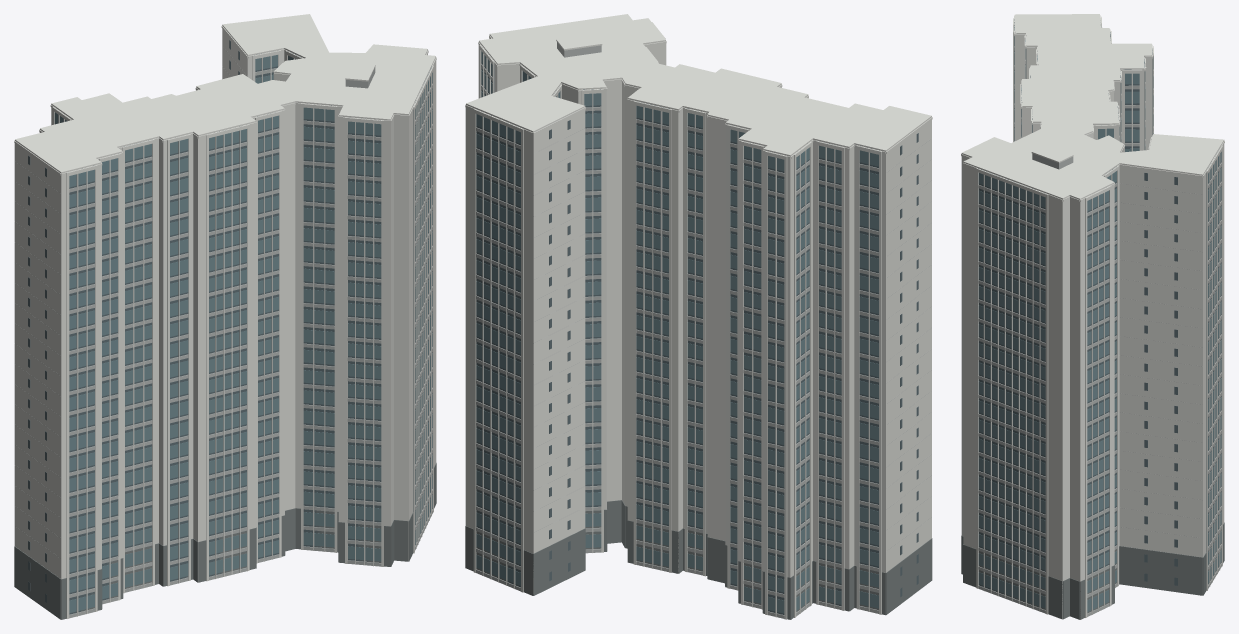
Rendered from bespoke-godeok-arteon-323.glb.
The picture shows the model from 3 angles, left to right: view 1: azimuth 30°, elevation 25°; view 2: azimuth 150°, elevation 25°; view 3: azimuth 270°, elevation 25°; orthographic projection. The views are drawn at different scales.
Parts seen in each view (by area): view 1: Arteon323_editable_Arteon323_broad_white_facade_frames001, Arteon323_editable_Arteon323_turquoise_balcony_glazing001, Arteon323_editable_Arteon323_recessed_dark_balcony_surrounds, Arteon323_editable_Arteon323_light_grey_solid_wall001, Arteon323_editable_Arteon323_muted_ground_wall001; view 2: Arteon323_editable_Arteon323_broad_white_facade_frames001, Arteon323_editable_Arteon323_turquoise_balcony_glazing001, Arteon323_editable_Arteon323_recessed_dark_balcony_surrounds, Arteon323_editable_Arteon323_light_grey_solid_wall001, Arteon323_editable_Arteon323_muted_ground_wall001; view 3: Arteon323_editable_Arteon323_broad_white_facade_frames001, Arteon323_editable_Arteon323_turquoise_balcony_glazing001, Arteon323_editable_Arteon323_recessed_dark_balcony_surrounds, Arteon323_editable_Arteon323_light_grey_solid_wall001, Arteon323_editable_Arteon323_muted_ground_wall001.
Part boxes in pixels (x1=…): Arteon323_editable_Arteon323_broad_white_facade_frames001: x1=14, y1=14, x2=436, y2=618; Arteon323_editable_Arteon323_turquoise_balcony_glazing001: x1=54, y1=55, x2=432, y2=613; Arteon323_editable_Arteon323_recessed_dark_balcony_surrounds: x1=28, y1=40, x2=432, y2=614; Arteon323_editable_Arteon323_light_grey_solid_wall001: x1=15, y1=47, x2=432, y2=618; Arteon323_editable_Arteon323_muted_ground_wall001: x1=14, y1=463, x2=436, y2=619; Arteon323_editable_Arteon323_broad_white_facade_frames001: x1=465, y1=14, x2=932, y2=619; Arteon323_editable_Arteon323_turquoise_balcony_glazing001: x1=476, y1=51, x2=878, y2=613; Arteon323_editable_Arteon323_recessed_dark_balcony_surrounds: x1=476, y1=62, x2=918, y2=614; Arteon323_editable_Arteon323_light_grey_solid_wall001: x1=476, y1=42, x2=931, y2=618; Arteon323_editable_Arteon323_muted_ground_wall001: x1=465, y1=500, x2=932, y2=619; Arteon323_editable_Arteon323_broad_white_facade_frames001: x1=961, y1=14, x2=1224, y2=619; Arteon323_editable_Arteon323_turquoise_balcony_glazing001: x1=978, y1=26, x2=1221, y2=611; Arteon323_editable_Arteon323_recessed_dark_balcony_surrounds: x1=978, y1=19, x2=1221, y2=606; Arteon323_editable_Arteon323_light_grey_solid_wall001: x1=978, y1=46, x2=1221, y2=616; Arteon323_editable_Arteon323_muted_ground_wall001: x1=961, y1=522, x2=1224, y2=619.
Bounding box in the file's own units: 61.42 × 66.25 × 36.94.
